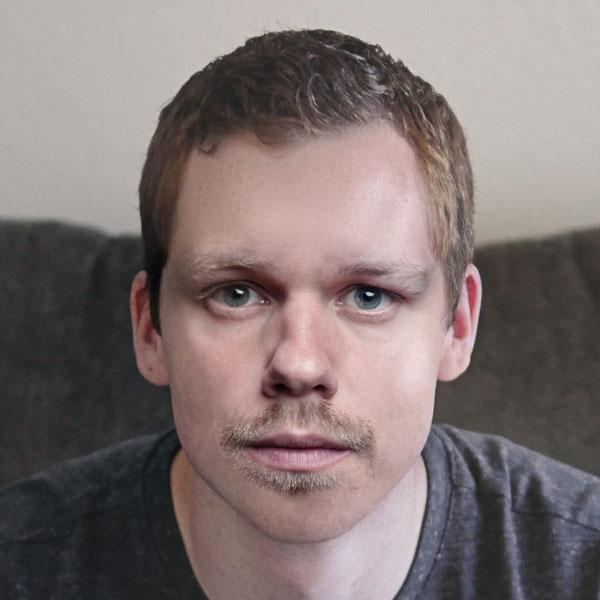Eyes: (188, 264, 283, 331), (324, 267, 415, 332)
